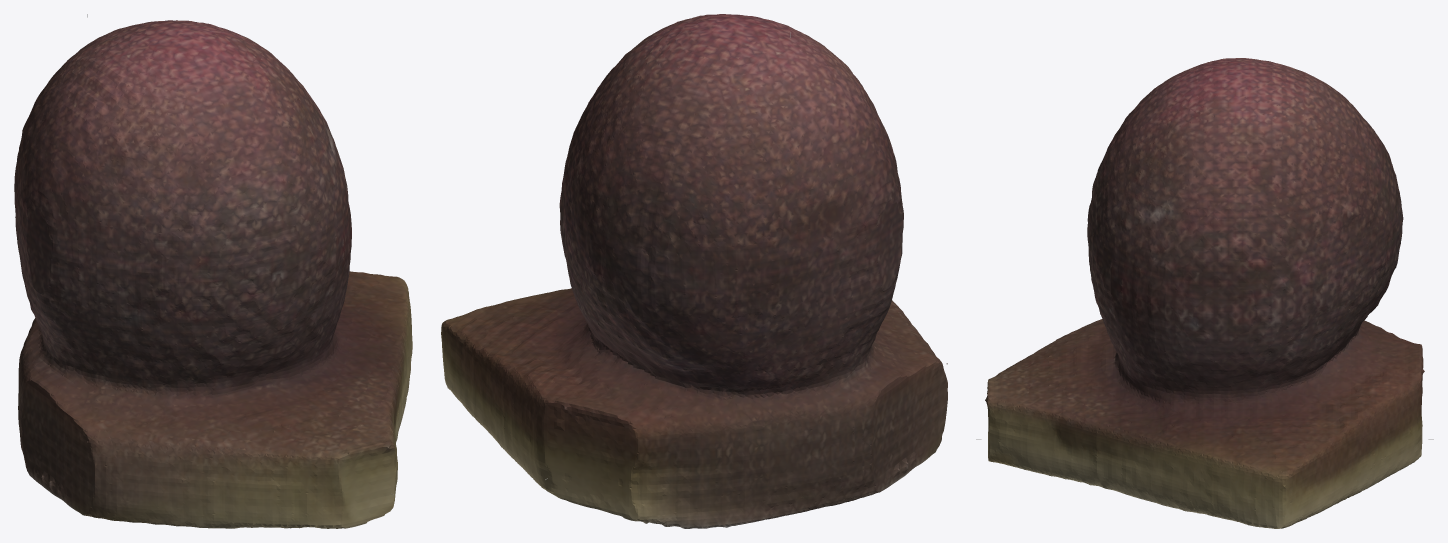
File: business_man.glb
3 renders of one model, left to right at view 1: azimuth 30°, elevation 25°; view 2: azimuth 150°, elevation 25°; view 3: azimuth 270°, elevation 25°, orthographic. The views are drawn at different scales.
Visible parts, largest first — view 1: world; view 2: world; view 3: world.
Boxes of the visible parts, left/top/right/bottom form: world: left=14, top=14, right=412, bottom=528; world: left=441, top=14, right=947, bottom=528; world: left=976, top=58, right=1433, bottom=528.
Size of the model in its own units: 1.92 by 2.08 by 2.08.
